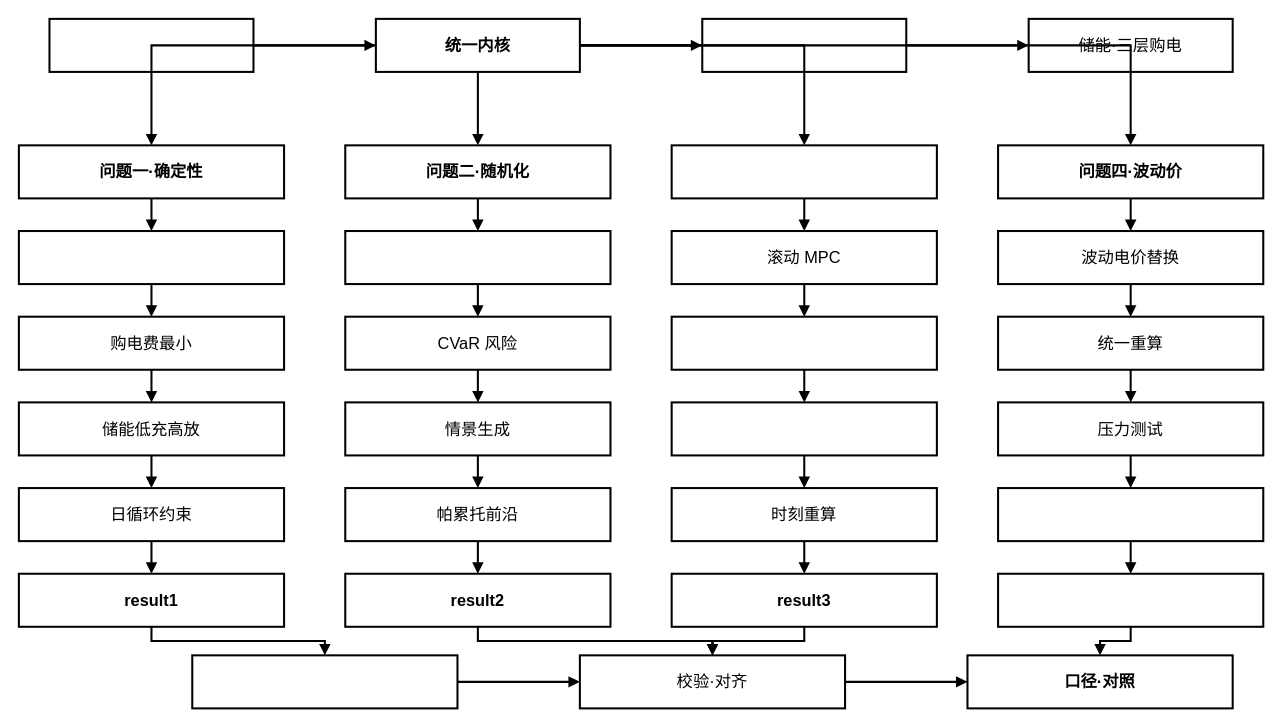
This 1281x726 diagram has some shape labels left out. Each missing label, with the box of its shape:
result4: (997, 572, 1264, 627)
两阶段随机: (344, 230, 611, 285)
功率·能量守恒: (701, 17, 907, 72)
单日线性规划: (17, 230, 285, 285)
季节·风险: (997, 487, 1264, 542)
数据预处理: (48, 17, 254, 72)
结果·输出: (191, 654, 458, 709)
计划·调整: (670, 315, 937, 370)
违约·超额罚: (670, 401, 937, 456)
问题三·滚动: (670, 144, 937, 199)
